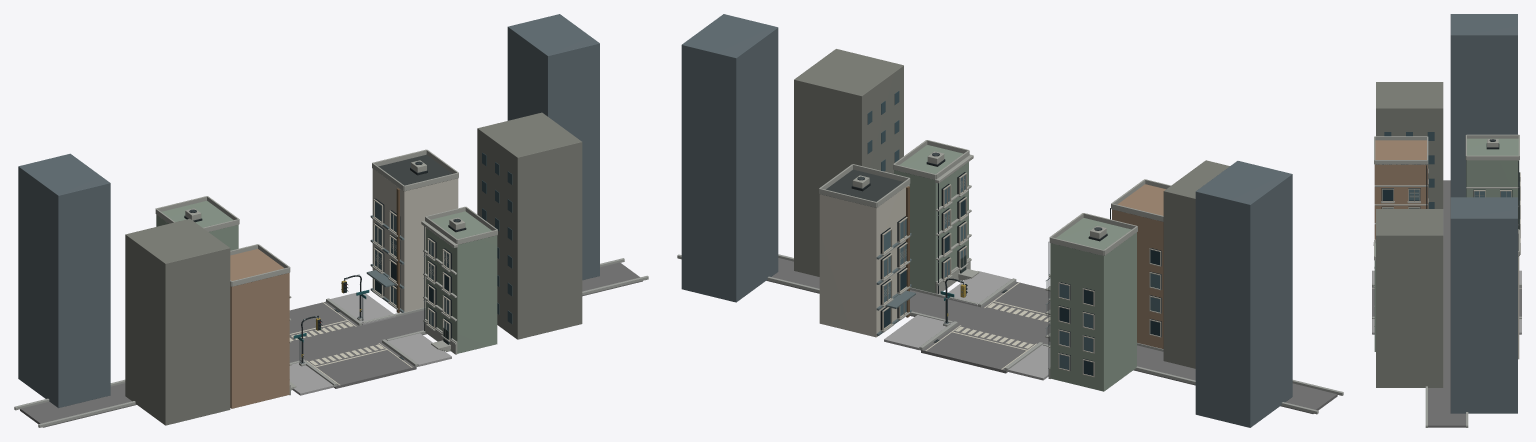
Rendered from city_hd_17.glb.
The picture shows the model from 3 angles, left to right: view 1: azimuth 30°, elevation 25°; view 2: azimuth 150°, elevation 25°; view 3: azimuth 270°, elevation 25°; orthographic projection. The views are drawn at different scales.
Visible parts, largest first — view 1: CITY_distant_1, CITY_distant_2, CITY_PBR_asphalt, Masonry apartment volume, CITY_wall_ivory, Modern apartment main volume, CITY_trim, CITY_PBR_pavement, CITY_curb, CITY_frame, CITY_roof, CITY_glass (+4 smaller); view 2: CITY_distant_2, CITY_distant_1, CITY_wall_ivory, CITY_PBR_asphalt, Modern apartment main volume, CITY_trim, Masonry apartment volume, CITY_PBR_pavement, CITY_frame, CITY_curb, CITY_glass, CITY_roof (+4 smaller); view 3: CITY_distant_2, CITY_distant_1, Masonry apartment volume, CITY_PBR_asphalt, CITY_wall_ivory, CITY_trim, CITY_frame, CITY_recess, CITY_distant_window, CITY_glass, CITY_curb, Modern apartment main volume (+2 smaller).
Part boxes in pixels (left/top/right/bottom): CITY_distant_1: left=125, top=112, right=582, bottom=425; CITY_distant_2: left=18, top=14, right=599, bottom=407; CITY_PBR_asphalt: left=20, top=262, right=642, bottom=427; Masonry apartment volume: left=230, top=249, right=289, bottom=408; CITY_wall_ivory: left=156, top=201, right=497, bottom=353; Modern apartment main volume: left=372, top=169, right=458, bottom=312; CITY_trim: left=155, top=149, right=497, bottom=395; CITY_PBR_pavement: left=289, top=293, right=451, bottom=395; CITY_curb: left=14, top=258, right=648, bottom=427; CITY_frame: left=373, top=199, right=450, bottom=340; CITY_roof: left=378, top=154, right=452, bottom=185; CITY_glass: left=375, top=201, right=448, bottom=330; CITY_distant_2: left=681, top=14, right=1292, bottom=427; CITY_distant_1: left=794, top=49, right=1229, bottom=368; CITY_wall_ivory: left=894, top=145, right=1136, bottom=391; CITY_PBR_asphalt: left=766, top=258, right=1337, bottom=413; Modern apartment main volume: left=819, top=184, right=909, bottom=337; CITY_trim: left=819, top=140, right=1170, bottom=378; Masonry apartment volume: left=1112, top=184, right=1165, bottom=348; CITY_PBR_pavement: left=884, top=271, right=1050, bottom=380; CITY_frame: left=882, top=172, right=1161, bottom=377; CITY_curb: left=677, top=254, right=1343, bottom=414; CITY_glass: left=884, top=175, right=1159, bottom=369; CITY_roof: left=826, top=169, right=1104, bottom=255; CITY_distant_2: left=1450, top=14, right=1517, bottom=413; CITY_distant_1: left=1376, top=82, right=1443, bottom=387; Masonry apartment volume: left=1374, top=140, right=1427, bottom=239; CITY_PBR_asphalt: left=1372, top=180, right=1521, bottom=427; CITY_wall_ivory: left=1374, top=138, right=1519, bottom=351; CITY_trim: left=1373, top=134, right=1519, bottom=326; CITY_frame: left=1382, top=168, right=1520, bottom=254; CITY_recess: left=1381, top=169, right=1519, bottom=229; CITY_distant_window: left=1384, top=132, right=1434, bottom=208; CITY_glass: left=1383, top=189, right=1511, bottom=208; CITY_curb: left=1372, top=283, right=1521, bottom=427; Modern apartment main volume: left=1518, top=256, right=1519, bottom=359.
Bounding box in the file's own units: 63 × 23.26 × 16.
